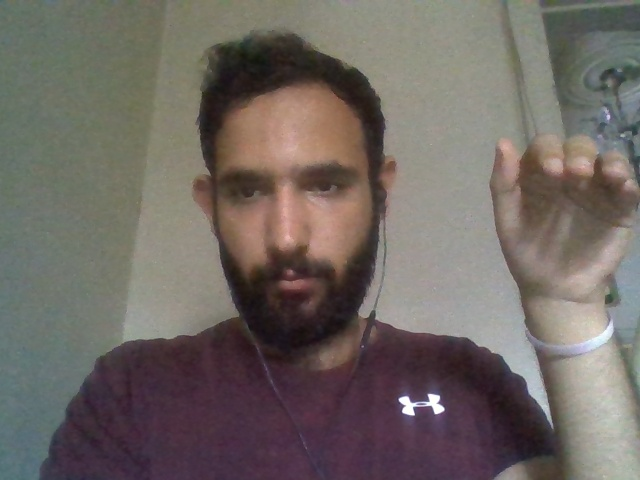Snake: (470, 125, 640, 480)
